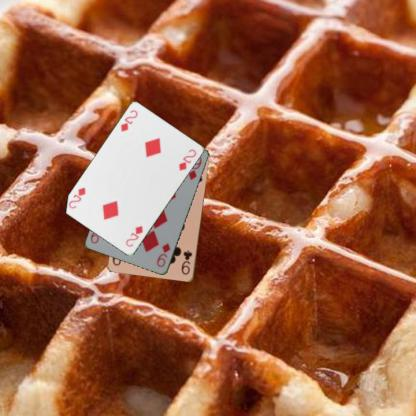2d: (118, 107, 139, 133), (123, 223, 144, 248)
9c: (178, 248, 194, 276)
9d: (154, 241, 172, 269)
